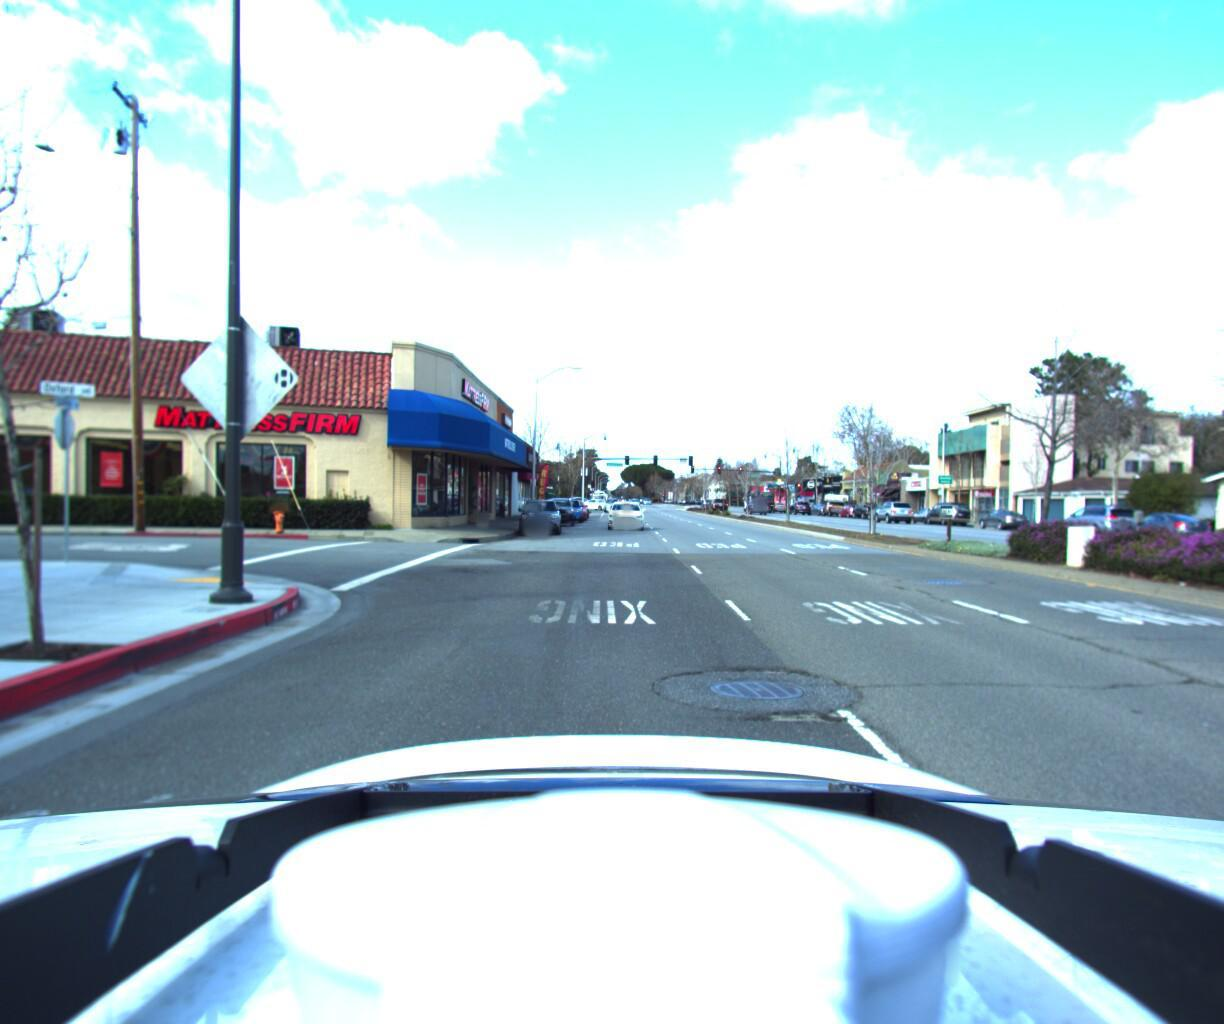car: (1050, 501, 1145, 538), (1112, 510, 1215, 543), (513, 497, 561, 536), (972, 507, 1030, 530), (604, 497, 642, 529), (921, 501, 972, 525), (869, 498, 913, 522), (539, 497, 571, 526), (552, 499, 582, 522), (741, 493, 764, 514)
